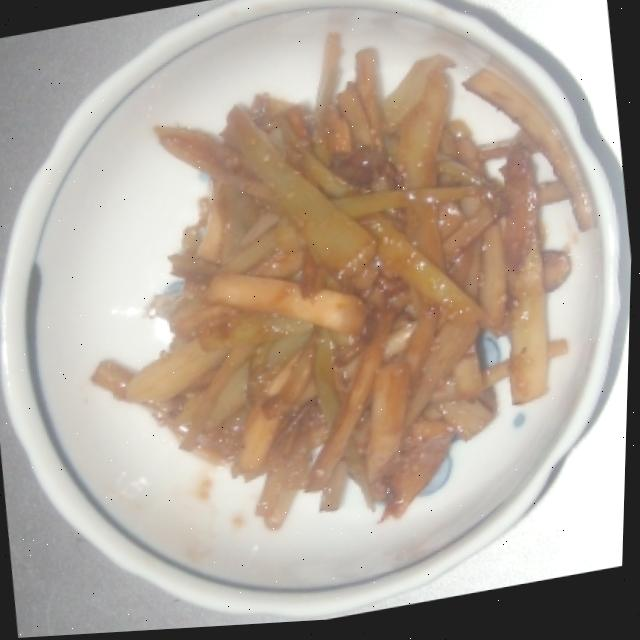蔬菜料理: (0, 0, 628, 628)
